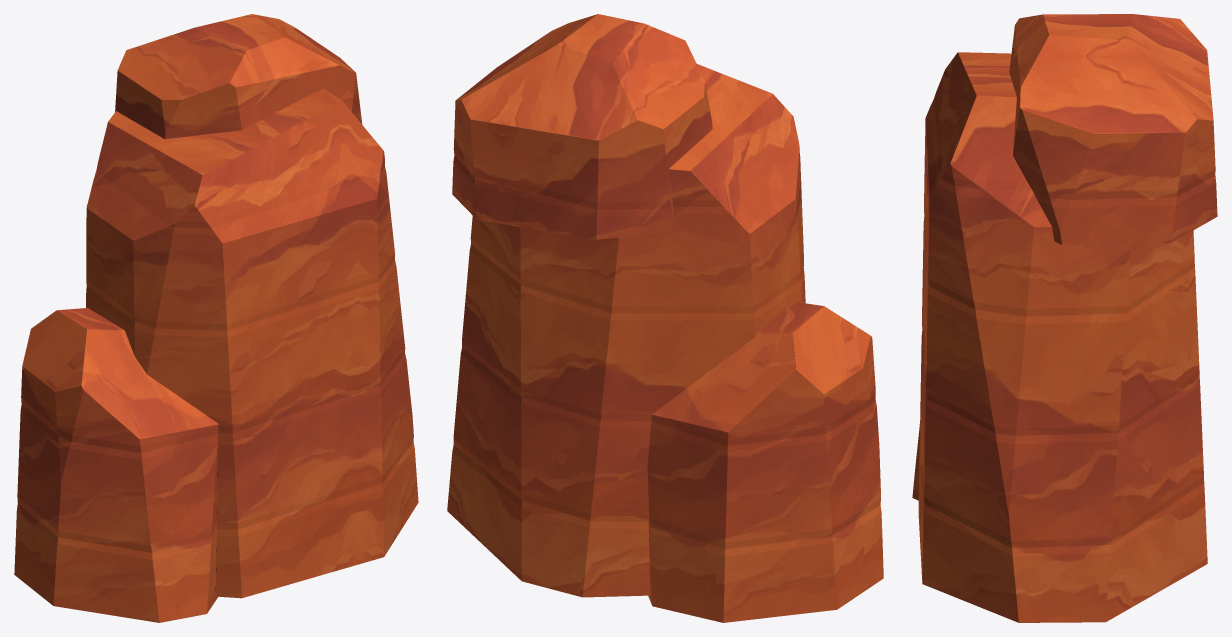
File: CanyonWall_B_SurfaceFix.fbx
3 views of the same model, side by side, from view 1: azimuth 30°, elevation 25°; view 2: azimuth 150°, elevation 25°; view 3: azimuth 270°, elevation 25° (orthographic). The views are drawn at different scales.
Parts seen in each view (by area): view 1: CanyonWall_B_SurfaceFix; view 2: CanyonWall_B_SurfaceFix; view 3: CanyonWall_B_SurfaceFix.
Boxes of the visible parts, bbox=[...] form: CanyonWall_B_SurfaceFix: bbox=[14, 14, 418, 622]; CanyonWall_B_SurfaceFix: bbox=[447, 14, 883, 622]; CanyonWall_B_SurfaceFix: bbox=[912, 14, 1217, 622].
Bounding box in the file's own units: 32 × 41 × 21.
1 material, 1 textured.
